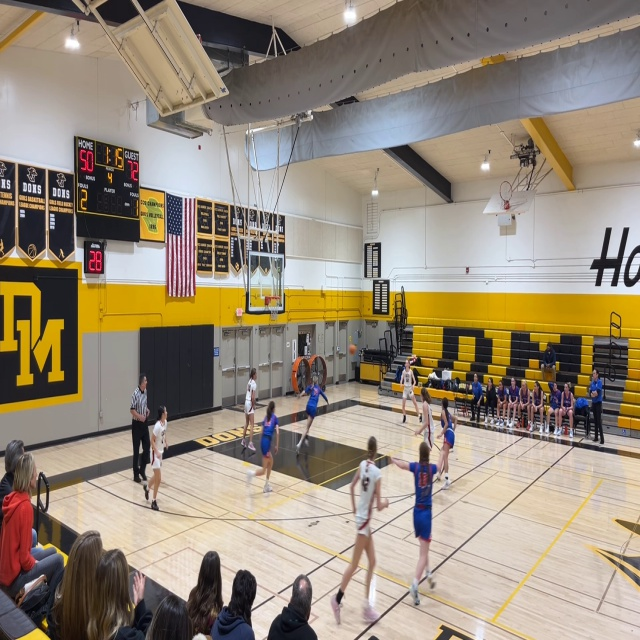Basketball: (348, 344, 356, 355)
